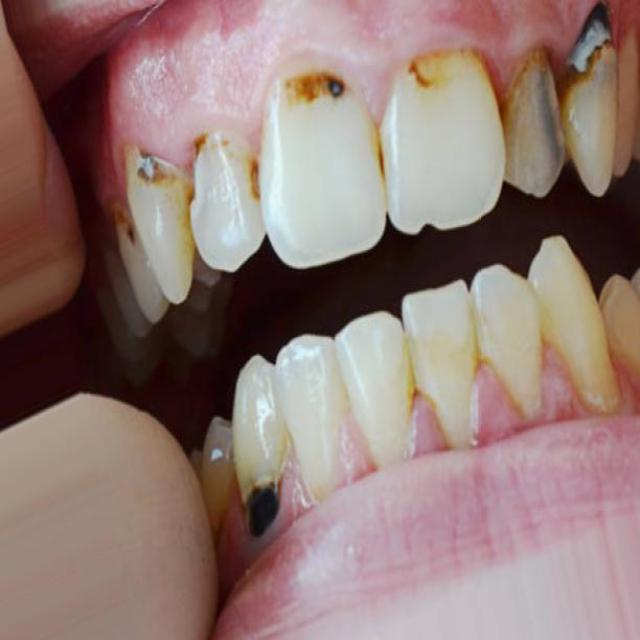caries: (182, 114, 268, 232), (225, 435, 298, 545), (568, 0, 626, 112), (273, 46, 351, 124), (126, 134, 186, 216), (399, 40, 486, 95)
